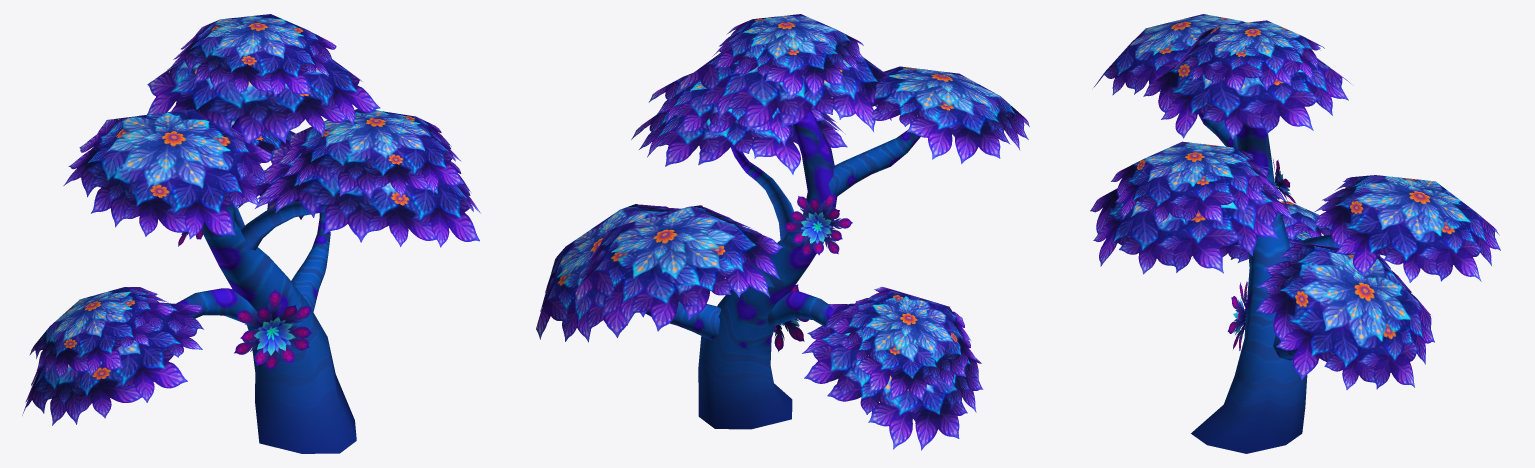
File: Blue_Tree_10b.FBX
3 renders of one model, left to right at view 1: azimuth 30°, elevation 25°; view 2: azimuth 150°, elevation 25°; view 3: azimuth 270°, elevation 25°, orthographic. The views are drawn at different scales.
Parts seen in each view (by area): view 1: Blue_Tree_10b; view 2: Blue_Tree_10b; view 3: Blue_Tree_10b.
Boxes of the visible parts, bbox=[...] form: Blue_Tree_10b: bbox=[22, 14, 480, 453]; Blue_Tree_10b: bbox=[536, 14, 1029, 450]; Blue_Tree_10b: bbox=[1090, 14, 1500, 453].
Size of the model in its own units: 438 by 395 by 418.
